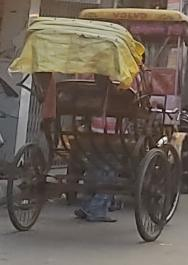Auto: (3, 14, 182, 242)
